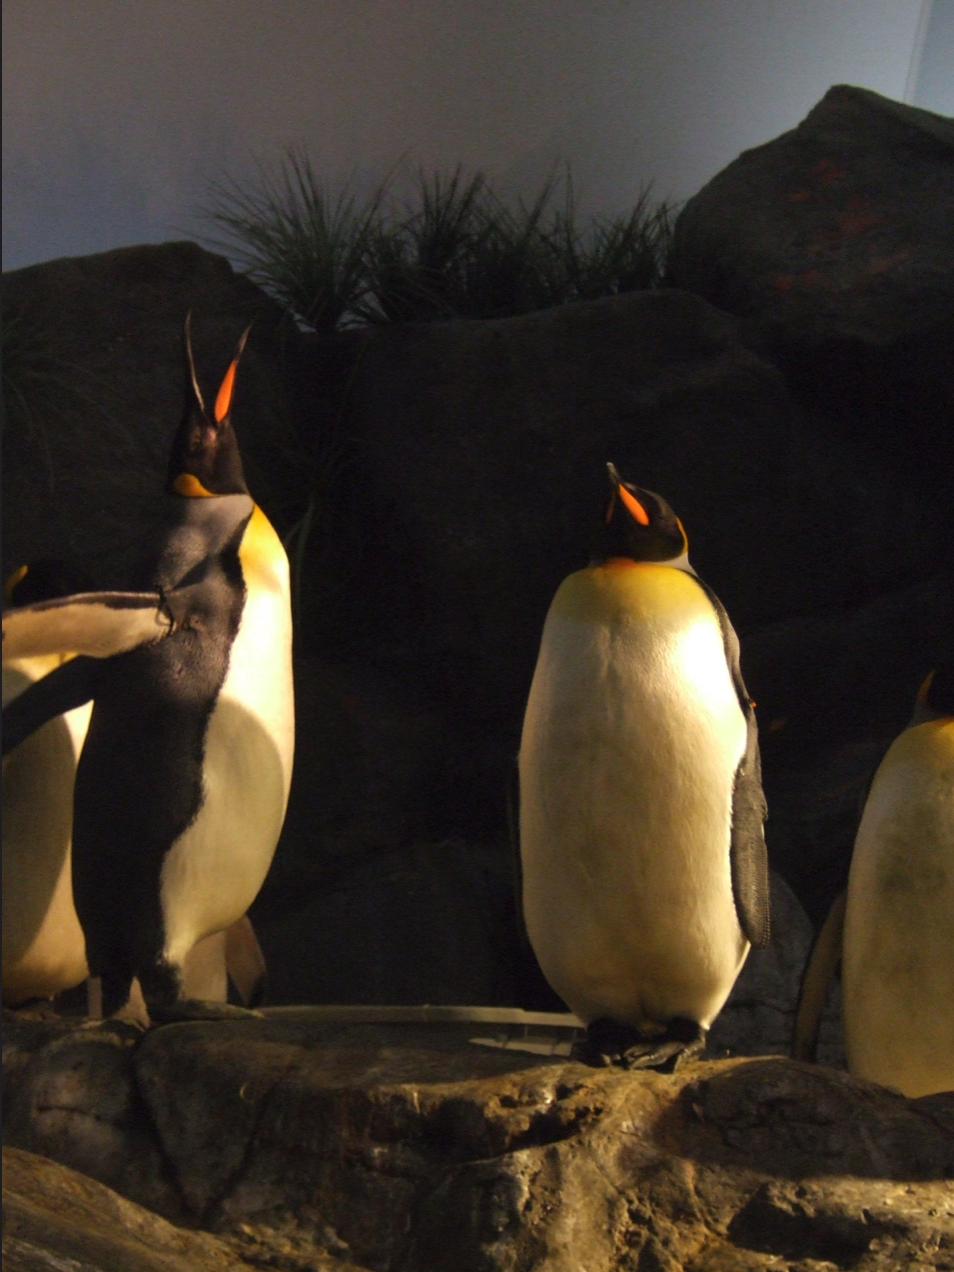penguin: (44, 308, 307, 1038), (496, 460, 778, 1069)
